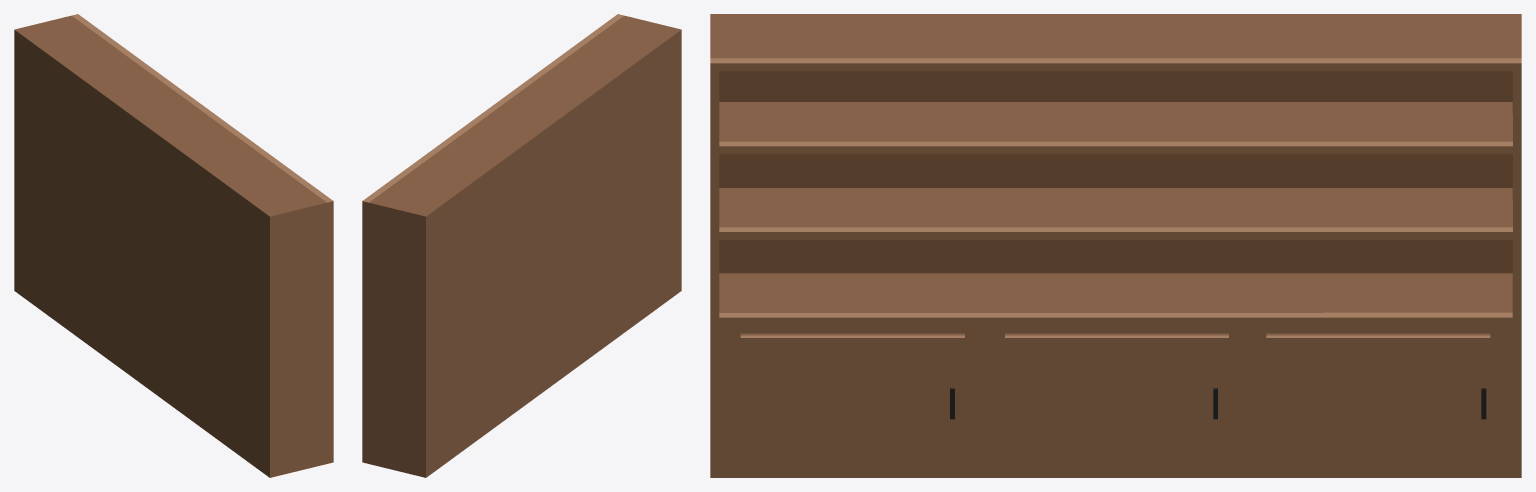
File: Mueble.FBX
The picture shows the model from 3 angles, left to right: view 1: azimuth 30°, elevation 25°; view 2: azimuth 150°, elevation 25°; view 3: azimuth 270°, elevation 25°; orthographic projection. The views are drawn at different scales.
Parts seen in each view (by area): view 1: Bliblioteca; view 2: Bliblioteca; view 3: Bliblioteca.
Boxes of the visible parts, x1,y1,x2,y2 form: Bliblioteca: (14, 14, 333, 477); Bliblioteca: (362, 14, 681, 477); Bliblioteca: (710, 14, 1521, 477).
Size of the model in its own units: 69.66 by 428 by 241.
